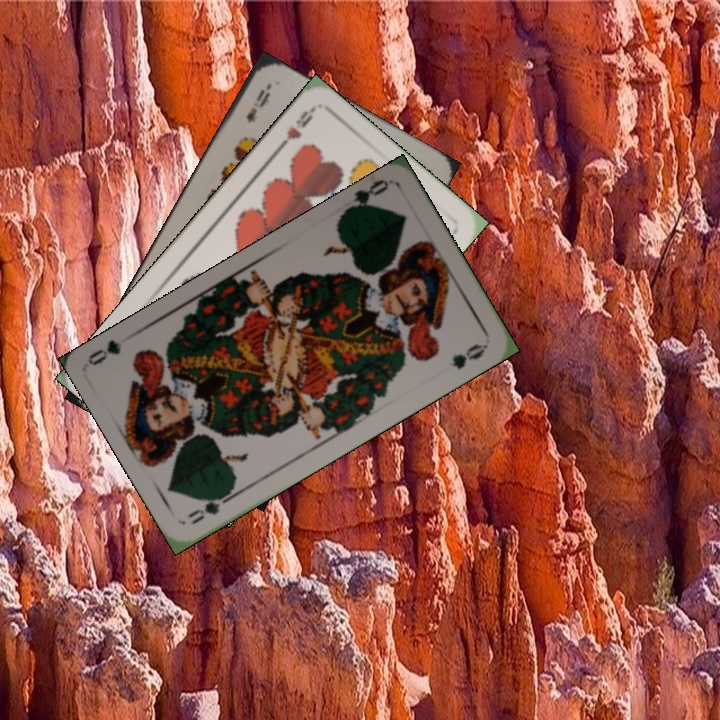E9: (242, 82, 273, 127)
GO: (184, 485, 238, 527), (339, 175, 391, 217)
H9: (273, 104, 317, 154)
